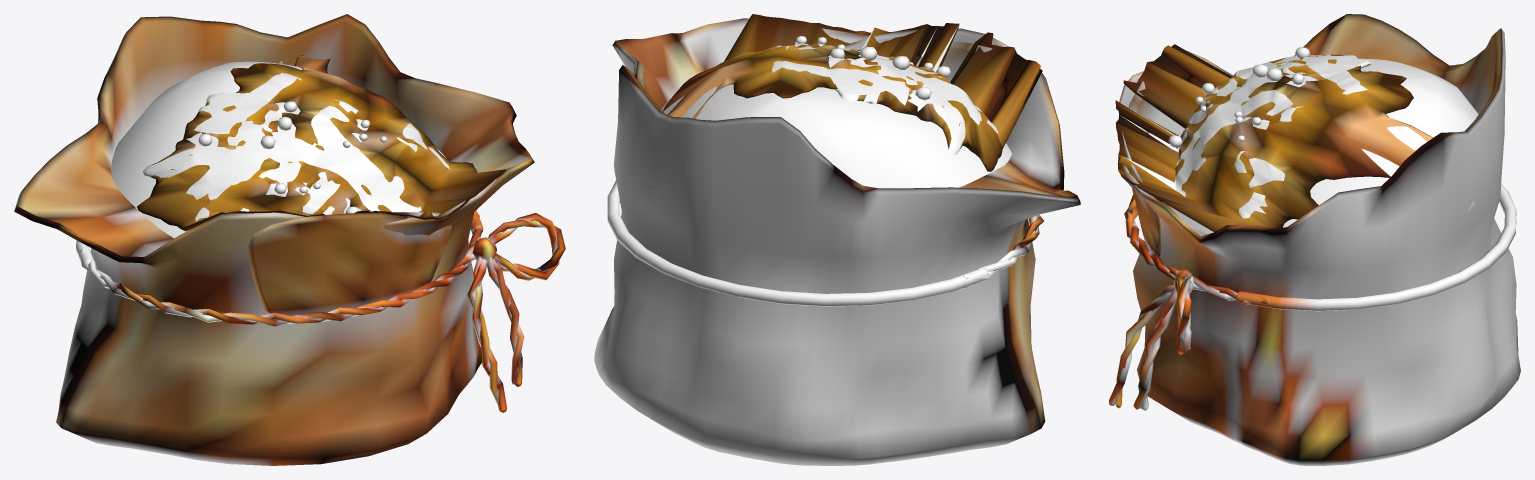
Rendered from SM_pickle_base.fbx.
3 renders of one model, left to right at view 1: azimuth 30°, elevation 25°; view 2: azimuth 150°, elevation 25°; view 3: azimuth 270°, elevation 25°, orthographic. The views are drawn at different scales.
Parts seen in each view (by area): view 1: SM_pickle_base; view 2: SM_pickle_base; view 3: SM_pickle_base.
Part boxes in pixels (<box>): SM_pickle_base: <box>14,14,565,465</box>; SM_pickle_base: <box>594,14,1080,465</box>; SM_pickle_base: <box>1109,14,1520,465</box>.
Bounding box in the file's own units: 0.3161 × 0.2131 × 0.2403.
